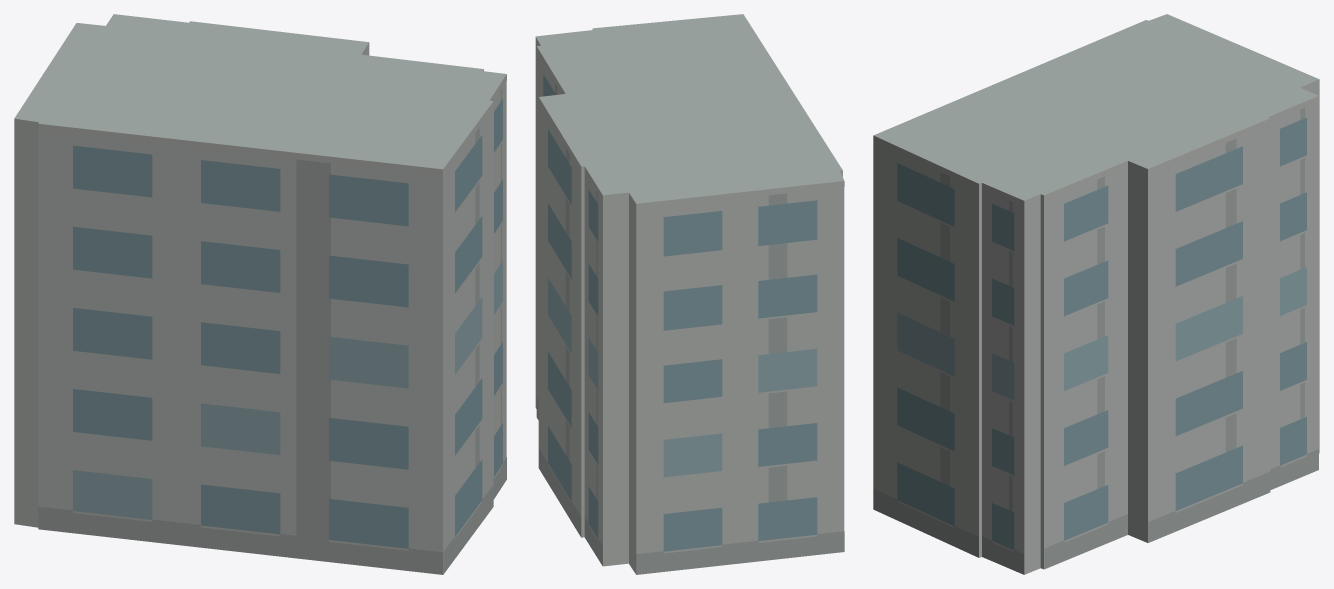
The model's file is survey-upis-32842750.glb.
3 views of the same model, side by side, from view 1: azimuth 30°, elevation 25°; view 2: azimuth 150°, elevation 25°; view 3: azimuth 270°, elevation 25° (orthographic). The views are drawn at different scales.
Visible parts, largest first — view 1: survey-upis-32842750.tmp; view 2: survey-upis-32842750.tmp; view 3: survey-upis-32842750.tmp.
Boxes of the visible parts, bbox=[...] form: survey-upis-32842750.tmp: bbox=[14, 14, 506, 574]; survey-upis-32842750.tmp: bbox=[535, 14, 844, 574]; survey-upis-32842750.tmp: bbox=[873, 14, 1319, 574].
Bounding box in the file's own units: 15.97 × 14.9 × 16.11.
